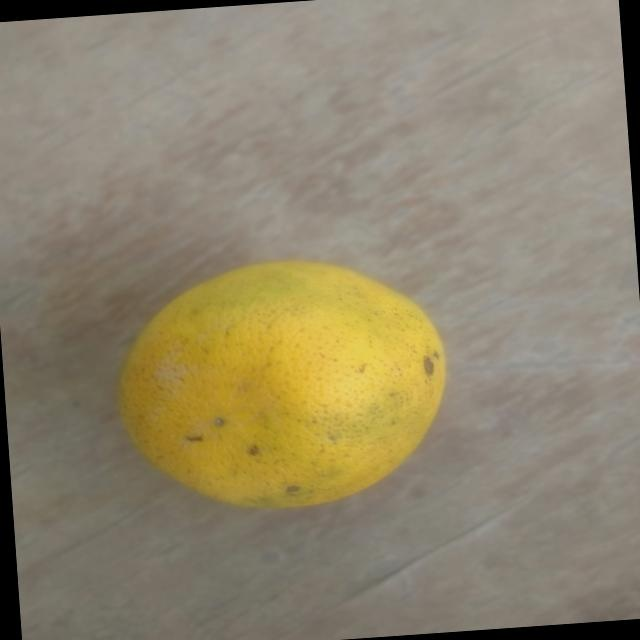agrume: (108, 245, 454, 520)
